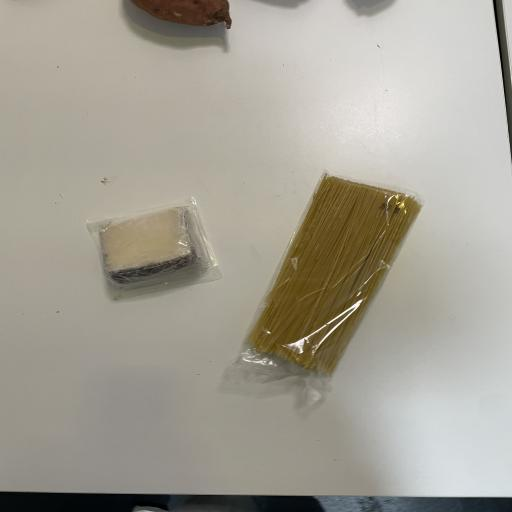cured_goat_cheese: (75, 175, 232, 336)
spaghetti: (212, 123, 446, 421)
